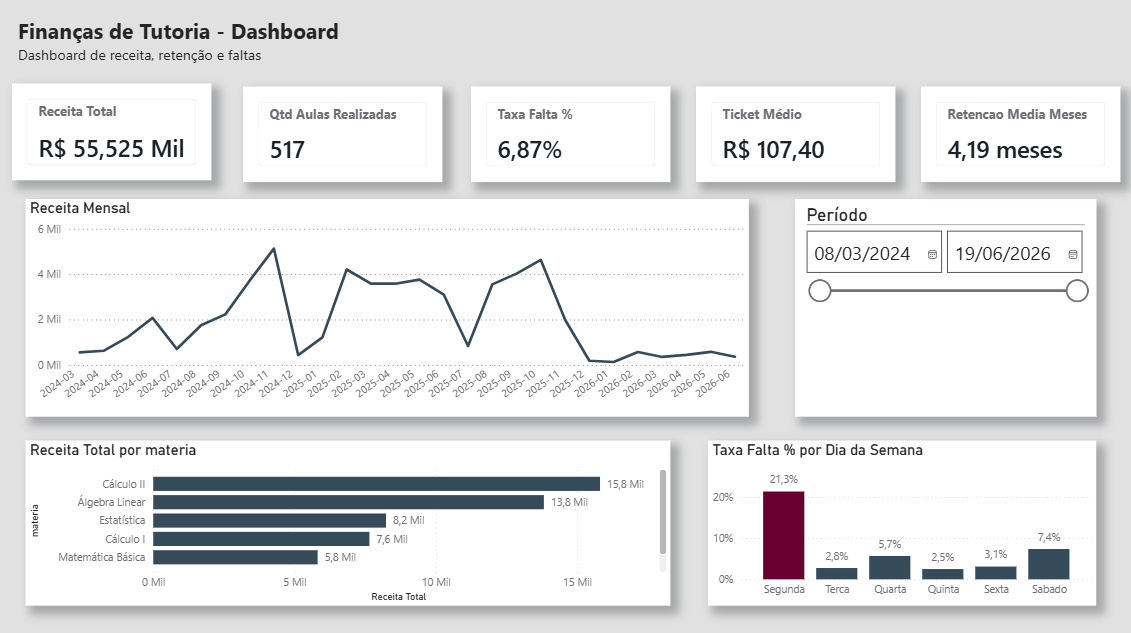

This screenshot's page, from the dashboard's own definition file:
{"tool":"powerbi","page":{"name":"Página 1","canvas":[1280,720],"ordinal":0},"visuals":[{"type":"cardVisual","fields":{"Data":["aulas.Receita Total"]},"box":[12.8,97.4,225,109.6],"z":0},{"type":"cardVisual","fields":{"Data":["aulas.Qtd Aulas Realizadas"]},"box":[275,100,225,107.7],"z":1000},{"type":"cardVisual","fields":{"Data":["aulas.Taxa Falta %"]},"box":[532.7,100,225,107.7],"z":2000},{"type":"cardVisual","fields":{"Data":["aulas.Ticket Médio"]},"box":[786.5,100,225,107.7],"z":3000},{"type":"slicer","fields":{"Values":["aulas.data"]},"box":[898.7,227.6,340.4,246.2],"z":4000},{"type":"barChart","fields":{"Category":["aulas.materia"],"Y":["aulas.Receita Total"]},"box":[29.5,500.6,728.8,186.5],"z":5000},{"type":"lineChart","title":"Receita Mensal","fields":{"Category":["aulas.Mes"],"Y":["aulas.Receita Total"]},"box":[29.5,227.6,817.3,246.2],"z":6000},{"type":"columnChart","fields":{"Category":["aulas.Dia da Semana"],"Y":["aulas.Taxa Falta %"]},"box":[800.6,500.6,438.5,186.5],"z":7000},{"type":"textbox","box":[15.4,15.4,442.3,65.4],"z":7001},{"type":"cardVisual","fields":{"Data":["alunos.Retencao Media Meses"]},"box":[1040.4,100,225,107.7],"z":7002}]}

Visuals, with their boxes in screenshot pixels (x1, y1, x2, y2), scaled from the page's 1280x720 canvas onto the 1131x633 screenshot:
cardVisual - aulas.Receita Total: 11:86:210:182
cardVisual - aulas.Qtd Aulas Realizadas: 243:88:442:183
cardVisual - aulas.Taxa Falta %: 471:88:669:183
cardVisual - aulas.Ticket Médio: 695:88:894:183
slicer - aulas.data: 794:200:1095:417
barChart - aulas.materia x aulas.Receita Total: 26:440:670:604
"Receita Mensal" lineChart: 26:200:748:417
columnChart - aulas.Dia da Semana x aulas.Taxa Falta %: 707:440:1095:604
textbox: 14:14:404:71
cardVisual - alunos.Retencao Media Meses: 919:88:1118:183
